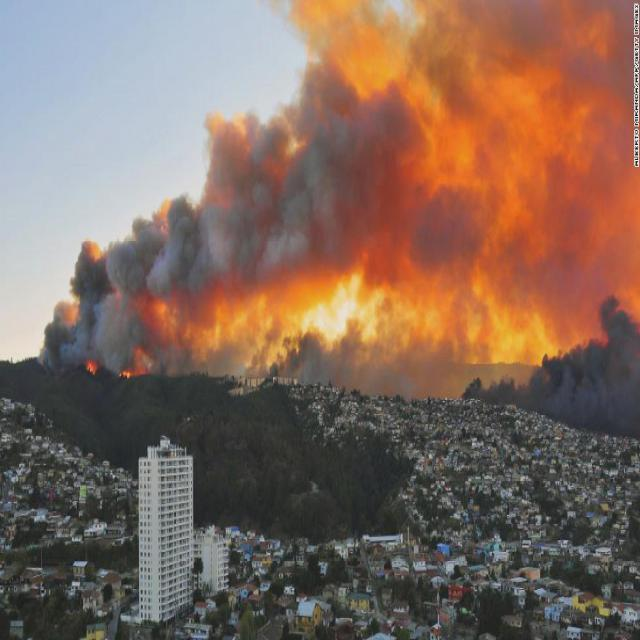Fire: (85, 362, 95, 377), (118, 370, 132, 380)
